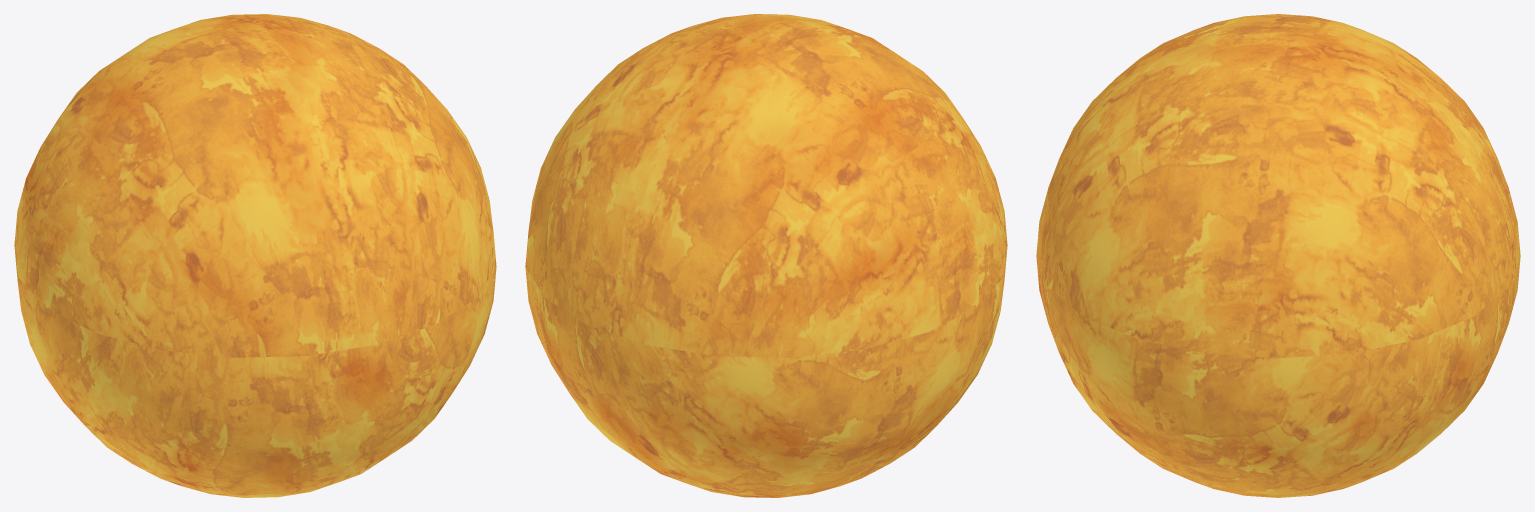
Rendered from Sol.glb.
3 renders of one model, left to right at view 1: azimuth 30°, elevation 25°; view 2: azimuth 150°, elevation 25°; view 3: azimuth 270°, elevation 25°, orthographic.
Parts seen in each view (by area): view 1: Planeta; view 2: Planeta; view 3: Planeta.
Boxes of the visible parts, box(x1,y1,x2,y2) form: Planeta: box(14, 14, 496, 497); Planeta: box(525, 14, 1007, 497); Planeta: box(1036, 14, 1520, 497).
Size of the model in its own units: 0.1129 by 0.1129 by 0.1129.
Materials: 1 (1 with a texture image).
